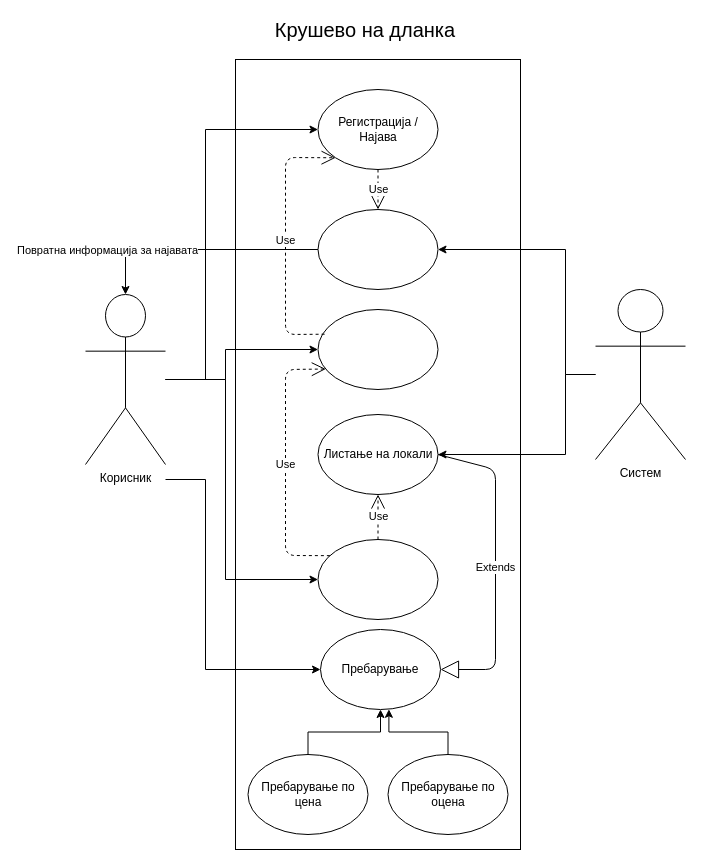
Image size: 704x867. Some labels were removed from this diagram. The shapes that lost their labels are listed below. From the top down, each one's centre as x and y in pixels, then its label:
the point at 377,249: Валидација на најавата
the point at 377,349: Оставање рецензија
the point at 377,579: Селекција на локал
